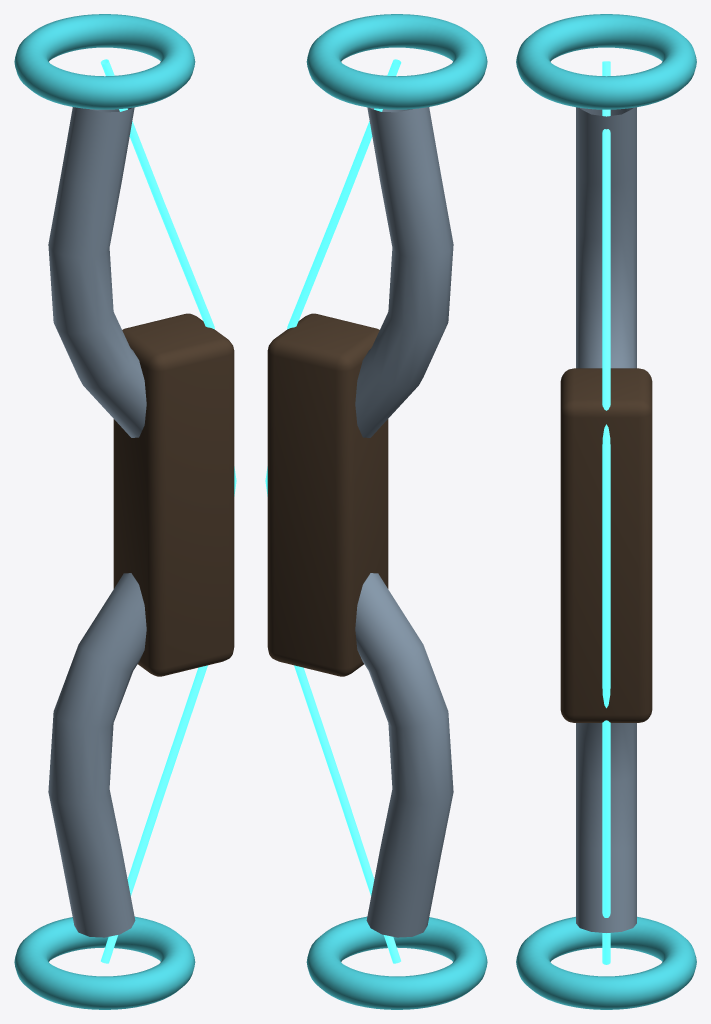
The model's file is bow_v3.glb.
3 renders of one model, left to right at view 1: azimuth 30°, elevation 25°; view 2: azimuth 150°, elevation 25°; view 3: azimuth 270°, elevation 25°, orthographic.
Parts seen in each view (by area): view 1: COMPOUND_RISER_SECONDARY, COMPOUND_LIMB_PRIMARY, COMPOUND_LIMB_PRIMARY.001, CAM_ACCENT.001, CAM_ACCENT, COMPOUND_STRING_EMISSIVE; view 2: COMPOUND_RISER_SECONDARY, COMPOUND_LIMB_PRIMARY, COMPOUND_LIMB_PRIMARY.001, CAM_ACCENT.001, CAM_ACCENT, COMPOUND_STRING_EMISSIVE; view 3: COMPOUND_RISER_SECONDARY, COMPOUND_LIMB_PRIMARY.001, CAM_ACCENT.001, COMPOUND_LIMB_PRIMARY, CAM_ACCENT, COMPOUND_STRING_EMISSIVE.
Part boxes in pixels (box(x1,y1,x2,y2)): COMPOUND_RISER_SECONDARY: box(113, 313, 234, 676); COMPOUND_LIMB_PRIMARY: box(48, 573, 146, 937); COMPOUND_LIMB_PRIMARY.001: box(48, 107, 146, 437); CAM_ACCENT.001: box(14, 14, 195, 109); CAM_ACCENT: box(14, 916, 195, 1009); COMPOUND_STRING_EMISSIVE: box(100, 59, 236, 963); COMPOUND_RISER_SECONDARY: box(267, 313, 388, 676); COMPOUND_LIMB_PRIMARY: box(355, 573, 453, 937); COMPOUND_LIMB_PRIMARY.001: box(355, 107, 453, 437); CAM_ACCENT.001: box(306, 14, 487, 109); CAM_ACCENT: box(306, 916, 487, 1009); COMPOUND_STRING_EMISSIVE: box(265, 59, 401, 963); COMPOUND_RISER_SECONDARY: box(560, 368, 652, 722); COMPOUND_LIMB_PRIMARY.001: box(576, 107, 636, 368); CAM_ACCENT.001: box(516, 14, 696, 109); COMPOUND_LIMB_PRIMARY: box(576, 723, 636, 932); CAM_ACCENT: box(516, 916, 696, 1009); COMPOUND_STRING_EMISSIVE: box(602, 61, 610, 964).
Bounding box in the file's own units: 0.789 × 3.35 × 0.59.
